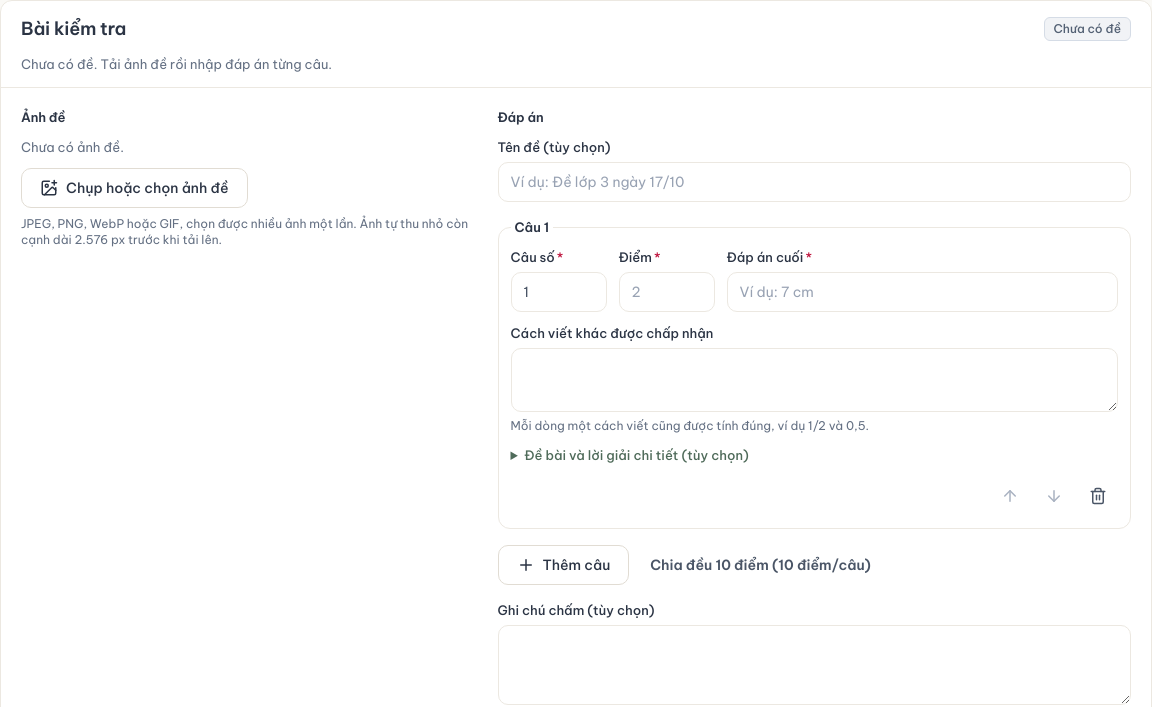
Test: answer key editor › adds numbered questions, splits 10 points evenly and saves a draft after creating the test
Click the button "Thêm câu" at {"x": 563, "y": 565}, box [498,545,629,585]
(page scrolled)
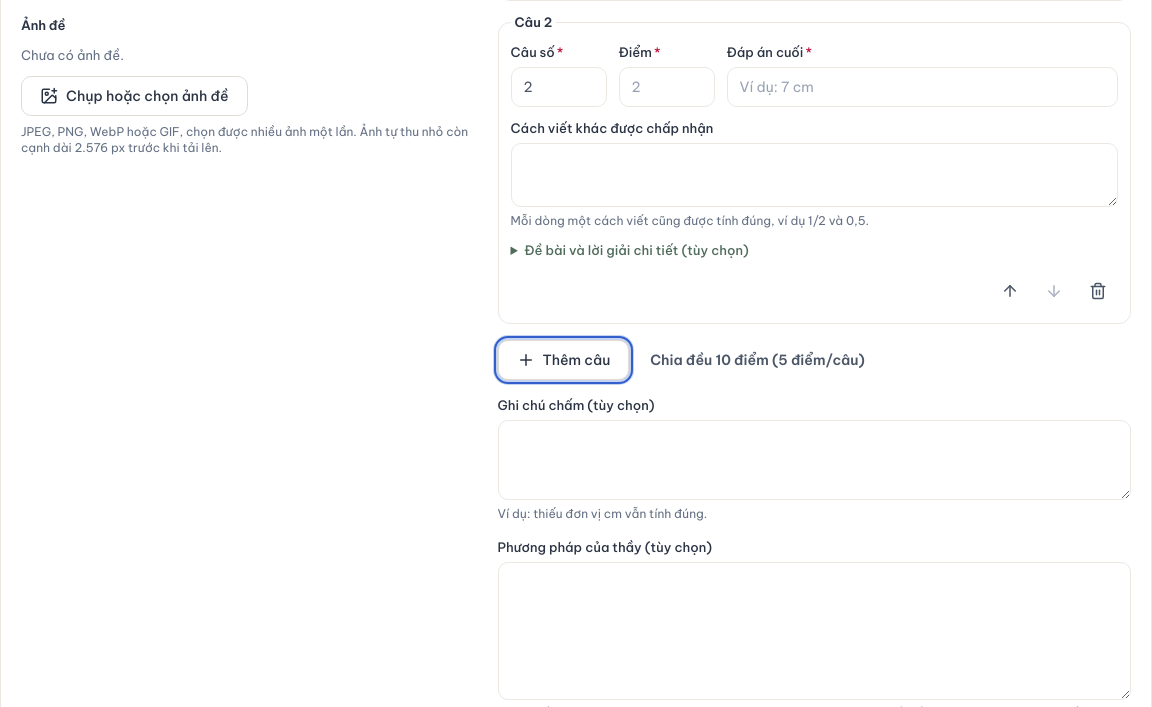
Click the button "Thêm câu" at {"x": 563, "y": 360}, box [498,340,629,380]
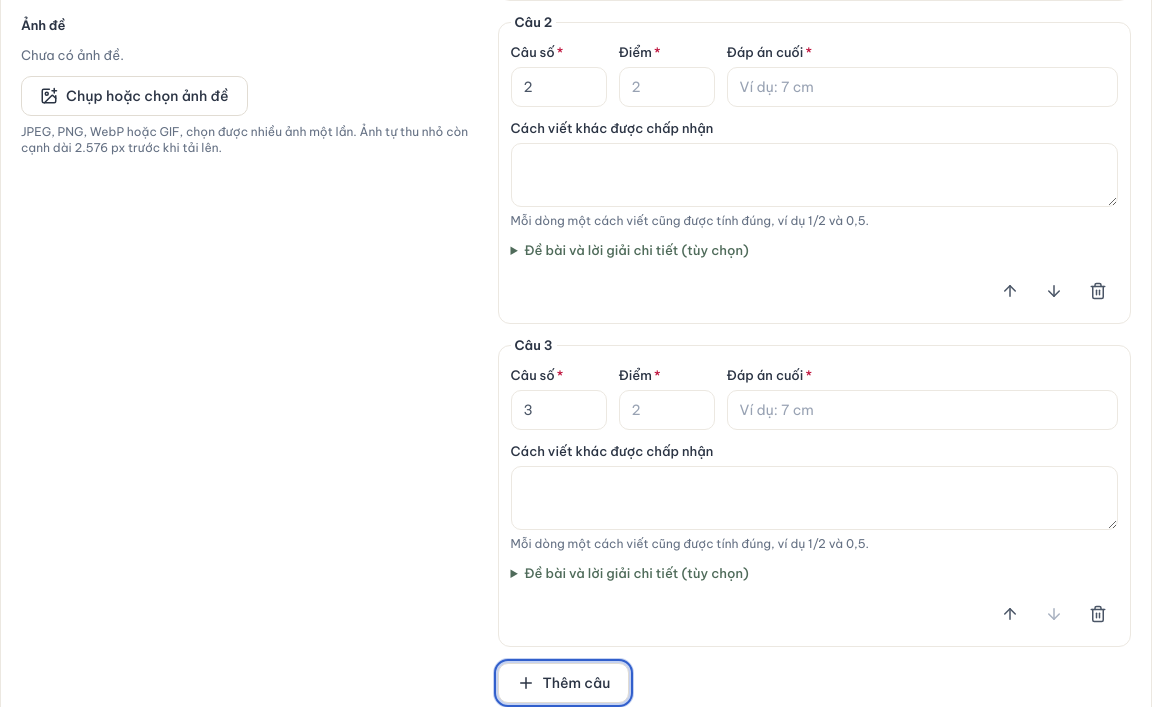
Click the button "Thêm câu" at {"x": 563, "y": 683}, box [498,663,629,703]
(page scrolled)
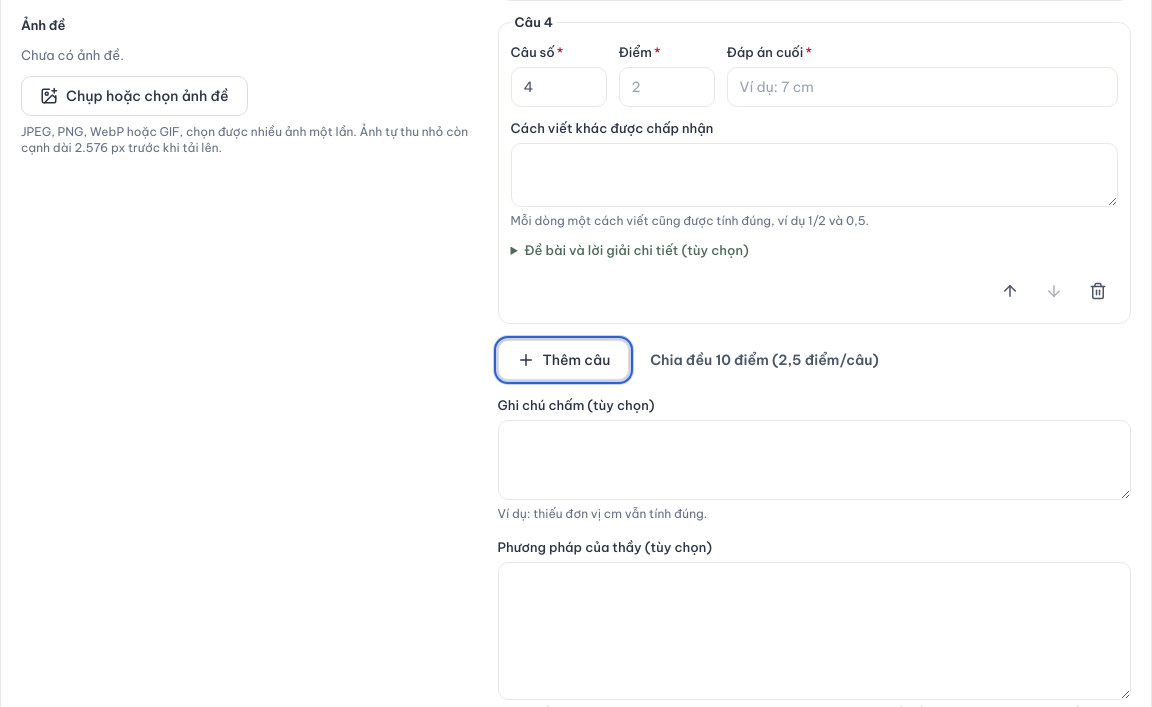
Click the button "Thêm câu" at {"x": 563, "y": 360}, box [498,340,629,380]
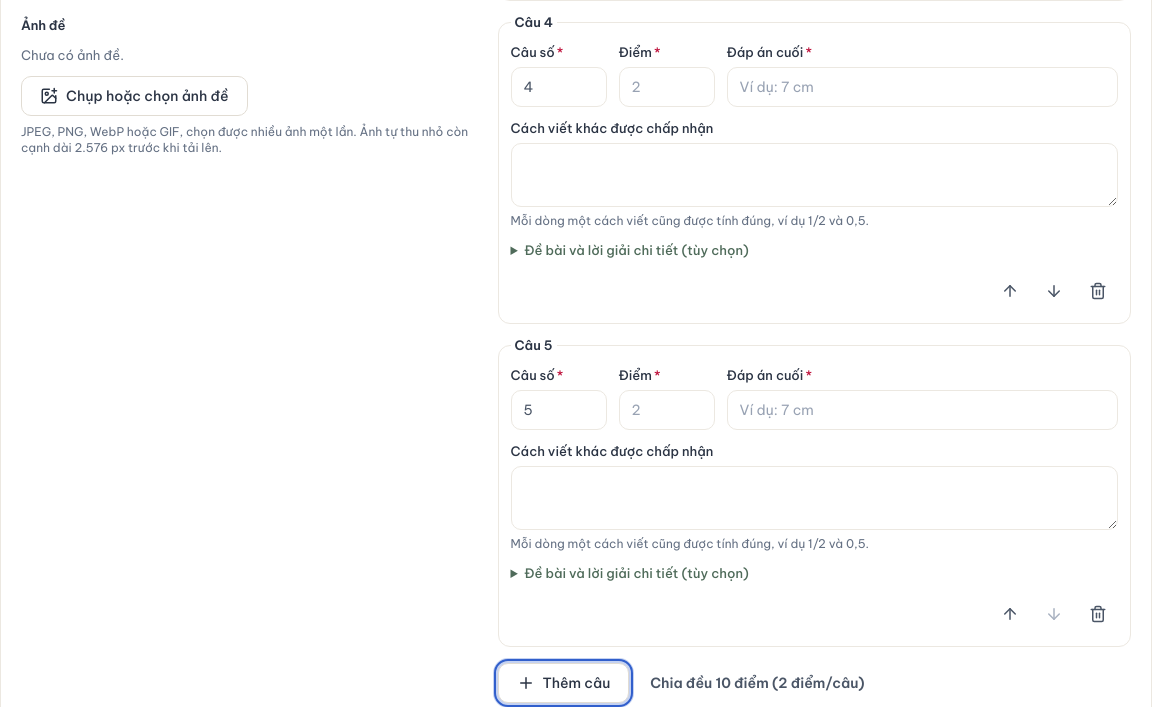
Click the button "Chia đều 10 điểm (2 điểm/câu)" at {"x": 757, "y": 683}, box [637,663,878,703]
(page scrolled)
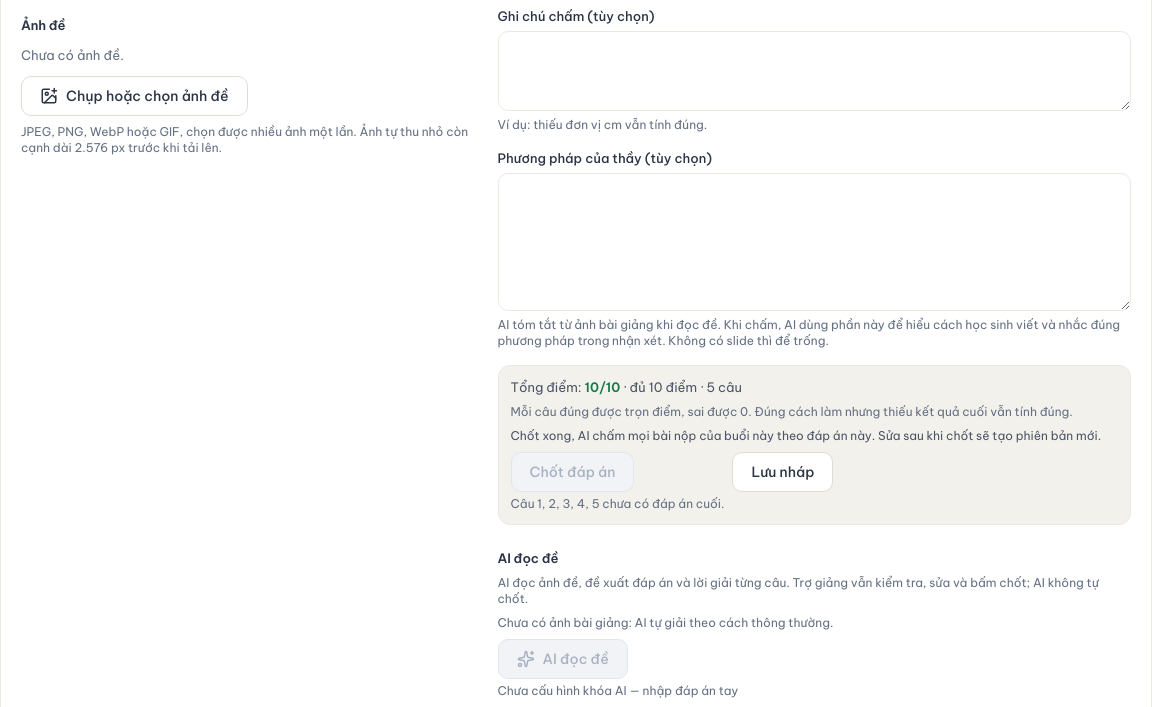
Click the button "Lưu nháp" at {"x": 783, "y": 472}, box [732,452,833,492]
(page scrolled)
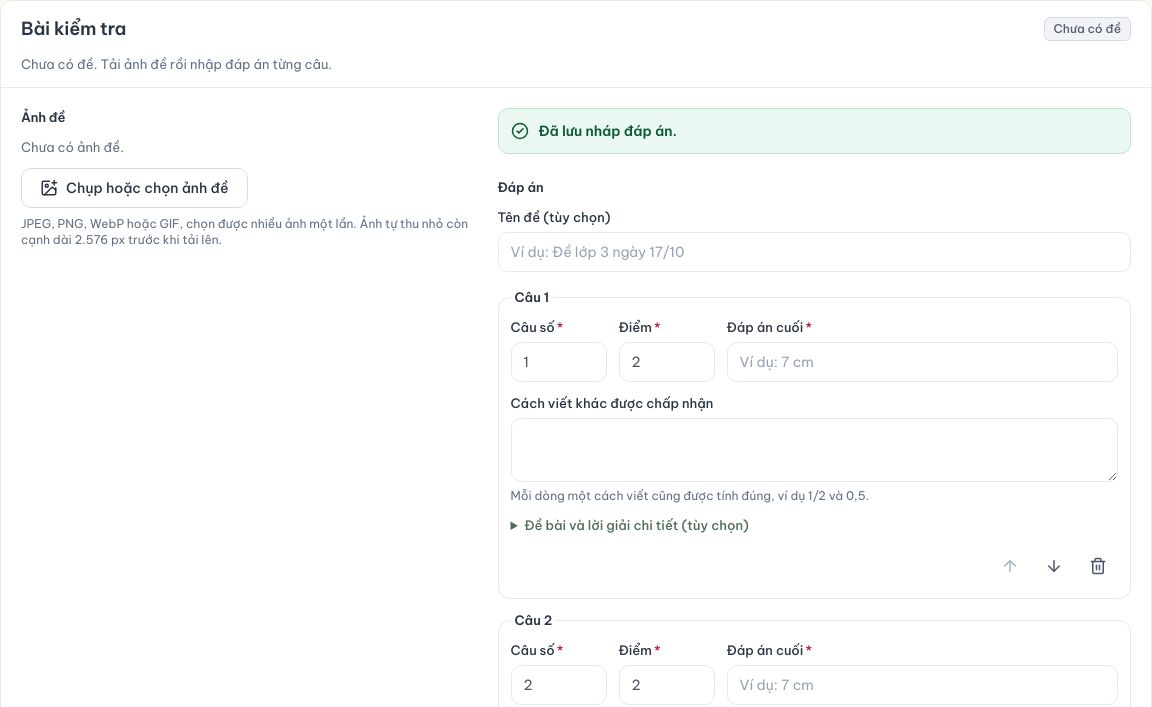
Now the text "Đã lưu nháp đáp án." is shown, box [538,122,677,140]
